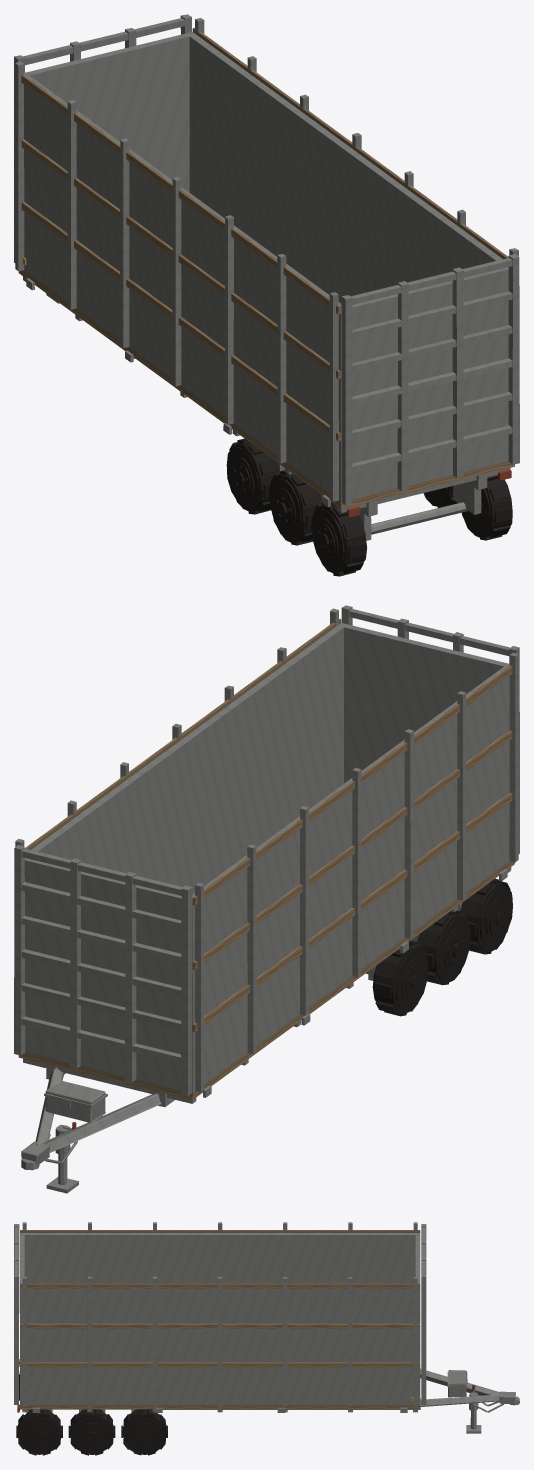
The model's file is bale_rack_trailer.glb.
The picture shows the model from 3 angles, top to bottom: view 1: azimuth 30°, elevation 25°; view 2: azimuth 150°, elevation 25°; view 3: azimuth 270°, elevation 25°; orthographic projection. The views are drawn at different scales.
Parts seen in each view (by area): view 1: BaleRackTrailer, Tailgate, Wheel_L3, Wheel_L1, Wheel_L2, Wheel_R3; view 2: BaleRackTrailer, Tailgate, Wheel_L1, Wheel_L3, Wheel_L2; view 3: BaleRackTrailer, Wheel_R2, Wheel_R1, Wheel_R3.
Boxes of the visible parts, x1,y1,x2,y2 form: BaleRackTrailer: (14,14,519,540); Tailgate: (352,267,508,498); Wheel_L3: (311,502,367,576); Wheel_L1: (226,438,279,514); Wheel_L2: (268,470,321,545); Wheel_R3: (461,475,512,540); BaleRackTrailer: (14,605,519,1193); Tailgate: (344,624,507,783); Wheel_L1: (372,940,428,1016); Wheel_L3: (460,878,512,954); Wheel_L2: (417,910,471,985); BaleRackTrailer: (14,1222,503,1433); Wheel_R2: (68,1409,115,1455); Wheel_R1: (121,1409,167,1455); Wheel_R3: (16,1409,62,1455).
Size of the model in its own units: 2.27 by 3.4 by 8.63.
Materials: 5 (4 with a texture image).
